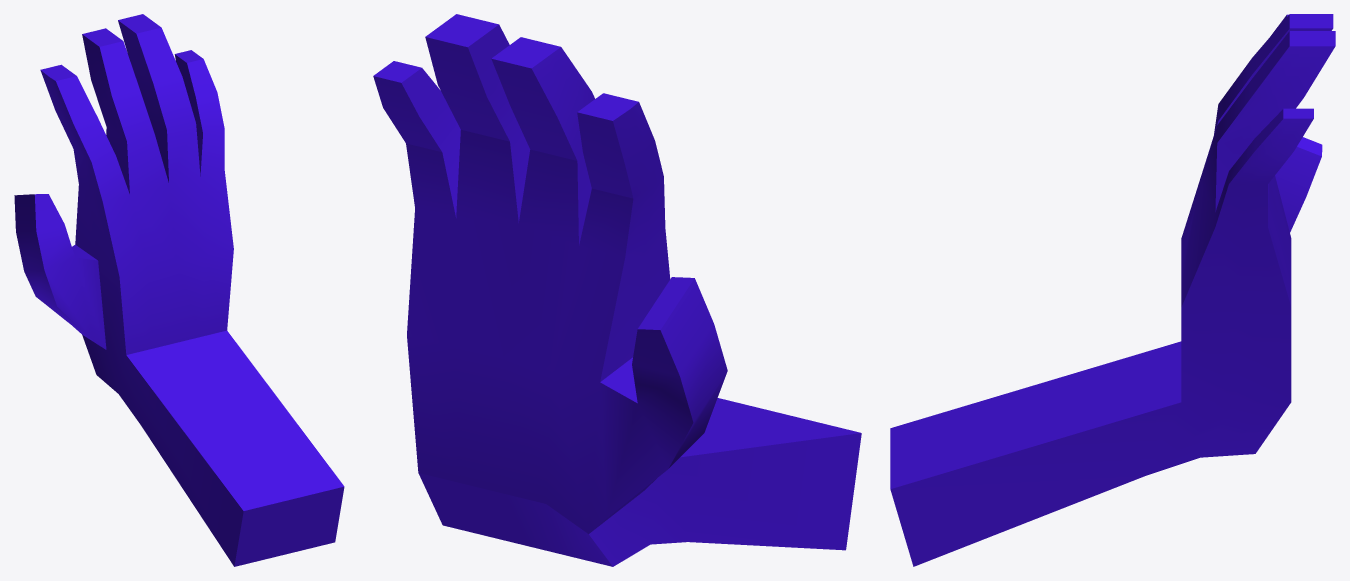
File: Hand_Right.fbx
3 renders of one model, left to right at view 1: azimuth 30°, elevation 25°; view 2: azimuth 150°, elevation 25°; view 3: azimuth 270°, elevation 25°, orthographic. The views are drawn at different scales.
Visible parts, largest first — view 1: Hand_R; view 2: Hand_R; view 3: Hand_R.
Part boxes in pixels (box(x1,y1,x2,y2)): Hand_R: box(14, 14, 344, 566); Hand_R: box(373, 14, 861, 566); Hand_R: box(890, 14, 1335, 566).
Size of the model in its own units: 69.32 by 150 by 119.
